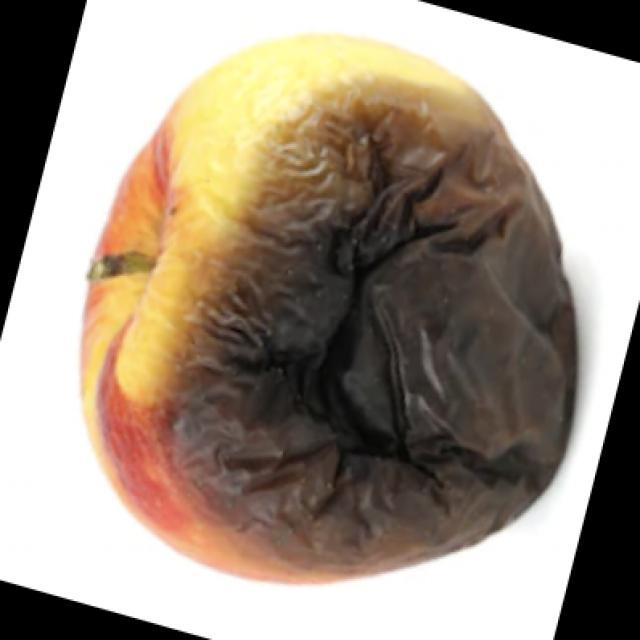Rotten: (73, 40, 592, 567)
